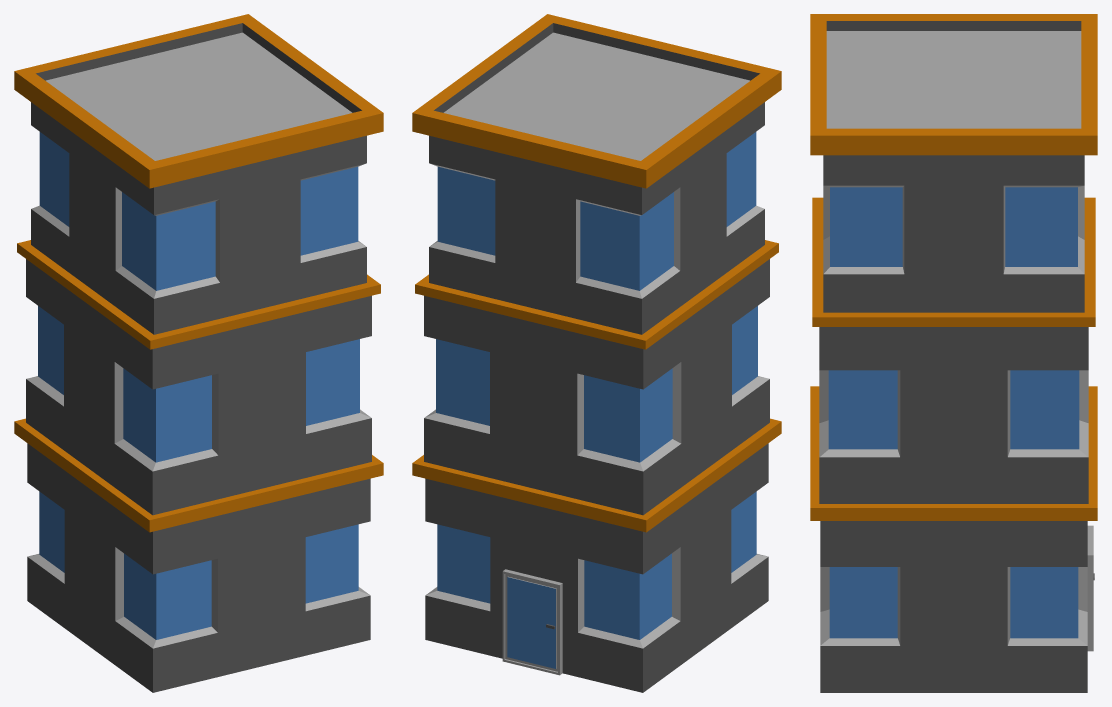
The model's file is grey_building.glb.
3 renders of one model, left to right at view 1: azimuth 30°, elevation 25°; view 2: azimuth 150°, elevation 25°; view 3: azimuth 270°, elevation 25°, orthographic. The views are drawn at different scales.
Parts seen in each view (by area): view 1: GREY BUILDING.001_Material.016_0; view 2: GREY BUILDING.001_Material.016_0; view 3: GREY BUILDING.001_Material.016_0.
Boxes of the visible parts, x1,y1,x2,y2 form: GREY BUILDING.001_Material.016_0: [14, 14, 383, 692]; GREY BUILDING.001_Material.016_0: [412, 14, 781, 692]; GREY BUILDING.001_Material.016_0: [810, 14, 1097, 692].
Bounding box in the file's own units: 2.2 × 4.75 × 2.2.
1 material, 1 textured.
